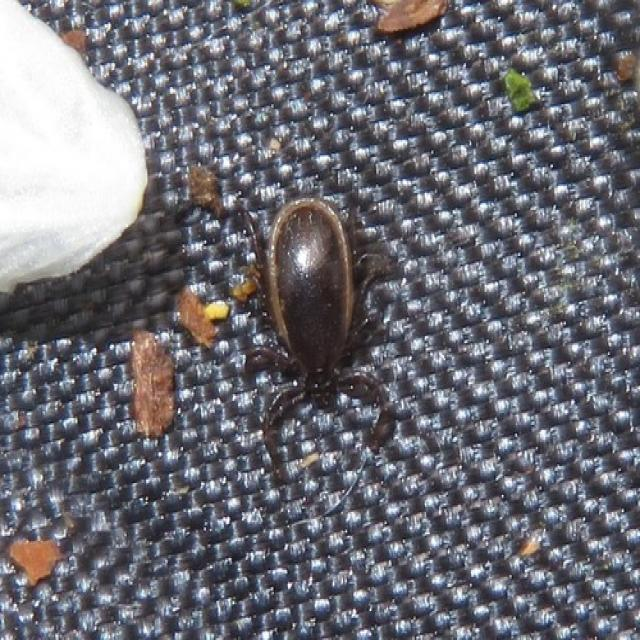Ixodes Ricinus-M: (243, 198, 398, 459)
